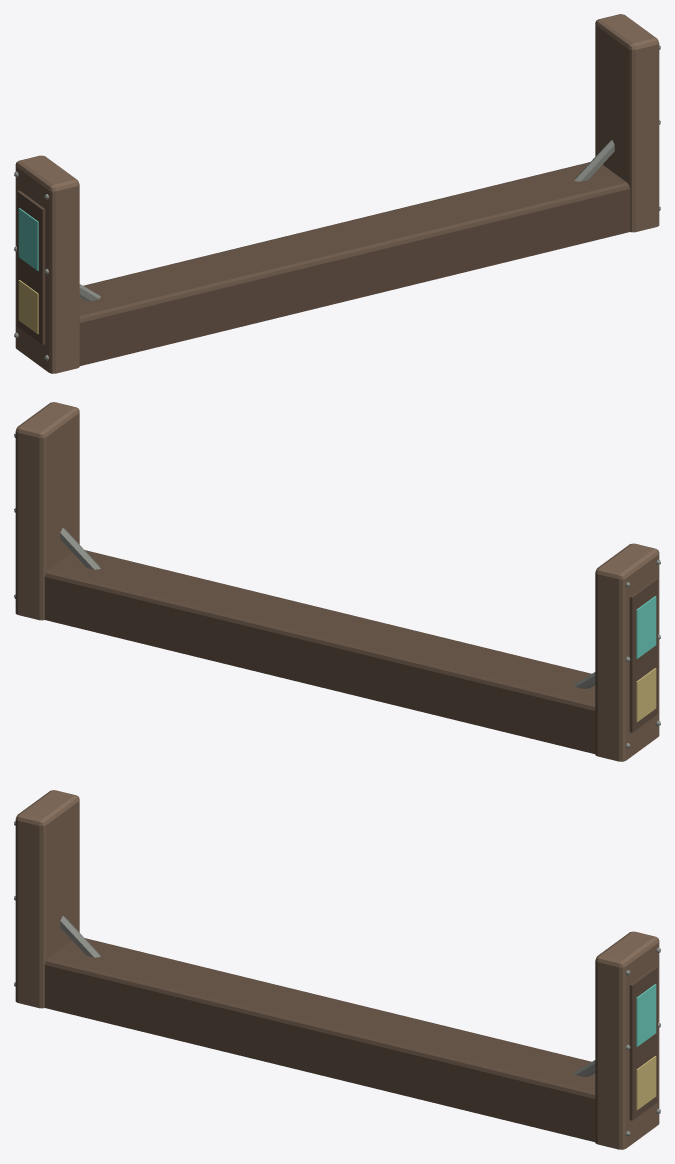
File: rn2-floresta-rib.glb
3 views of the same model, one above another, from view 1: azimuth 30°, elevation 25°; view 2: azimuth 150°, elevation 25°; view 3: azimuth 330°, elevation 25° (orthographic).
Parts seen in each view (by area): view 1: rn2_floresta_rib_body, rn2_floresta_rib_glow; view 2: rn2_floresta_rib_body, rn2_floresta_rib_glow; view 3: rn2_floresta_rib_body, rn2_floresta_rib_glow.
Boxes of the visible parts, x1,y1,x2,y2 form: rn2_floresta_rib_body: (14,14,660,373); rn2_floresta_rib_glow: (18,208,38,334); rn2_floresta_rib_body: (14,402,660,761); rn2_floresta_rib_glow: (636,596,656,722); rn2_floresta_rib_body: (14,790,660,1149); rn2_floresta_rib_glow: (636,984,656,1110).
Bounding box in the file's own units: 11.26 × 3.25 × 1.2.
